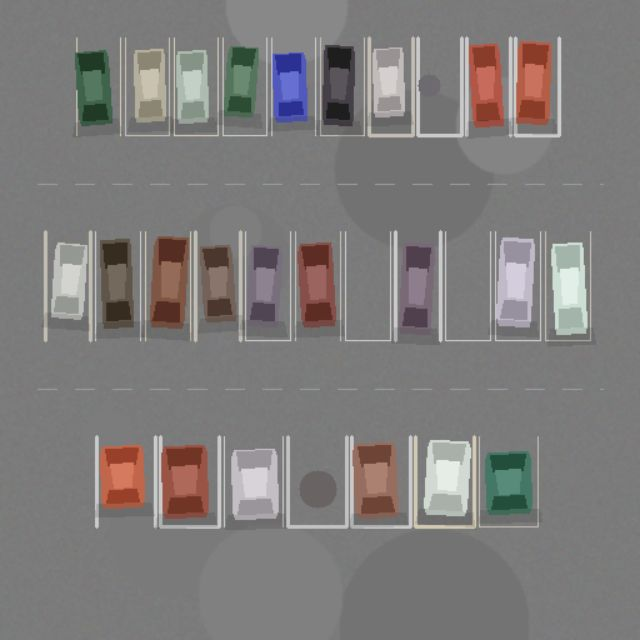space-empty: (287, 436, 346, 526), (345, 231, 390, 340), (445, 231, 490, 340), (417, 38, 461, 135)
space-occupied: (96, 436, 155, 526), (160, 436, 219, 526), (224, 436, 283, 526), (351, 436, 410, 526), (415, 436, 474, 526), (479, 436, 537, 526), (45, 231, 90, 340), (95, 231, 140, 340), (145, 231, 190, 340), (195, 231, 240, 340), (245, 231, 290, 340), (295, 231, 340, 340), (395, 231, 440, 340), (495, 231, 540, 340), (545, 231, 590, 340), (76, 38, 120, 135), (125, 38, 169, 135), (271, 38, 315, 135), (320, 38, 364, 135), (369, 38, 413, 135), (466, 38, 510, 135), (515, 38, 559, 135), (174, 38, 217, 135), (223, 38, 266, 135)
